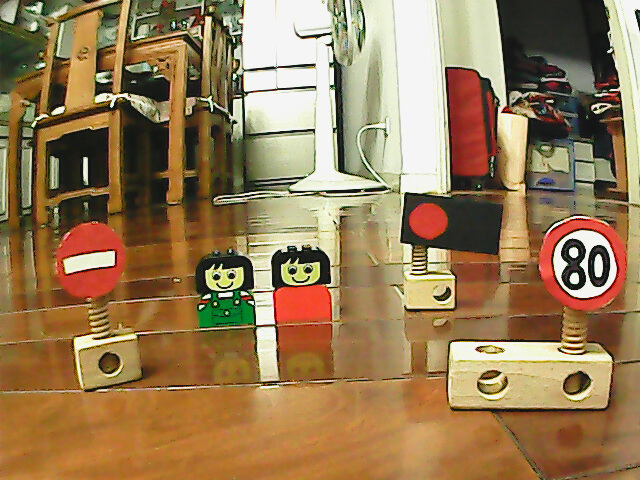Person: (267, 242, 337, 325), (192, 246, 258, 329)
Red Traffic Light: (405, 196, 451, 247)
Speed Limit 80: (536, 212, 631, 314)
Stop Sign: (53, 220, 129, 300)
